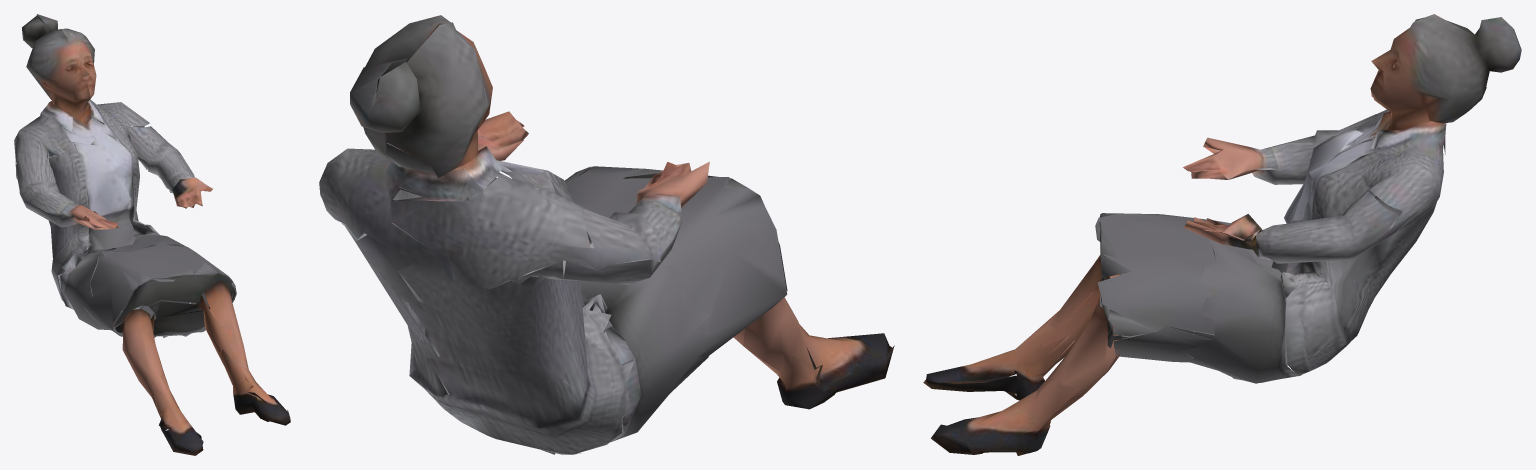
The model's file is femme_agee.glb.
3 renders of one model, left to right at view 1: azimuth 30°, elevation 25°; view 2: azimuth 150°, elevation 25°; view 3: azimuth 270°, elevation 25°, orthographic. The views are drawn at different scales.
Parts seen in each view (by area): view 1: driver; view 2: driver; view 3: driver.
Boxes of the visible parts, x1,y1,x2,y2 form: driver: (14, 14, 290, 455); driver: (319, 15, 894, 454); driver: (923, 14, 1521, 455).
Bounding box in the file's own units: 0.5698 × 0.98 × 1.31.
1 material, 1 textured.
